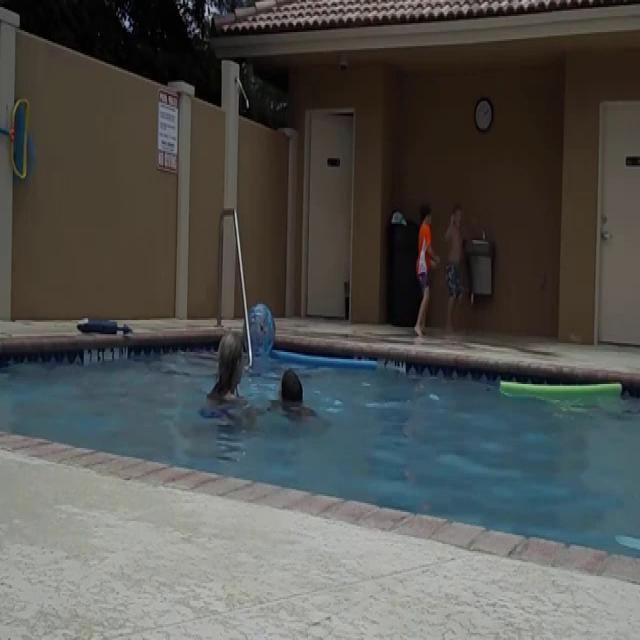adult: (203, 328, 254, 449)
child: (412, 192, 438, 336), (444, 200, 466, 336), (274, 368, 308, 437)
